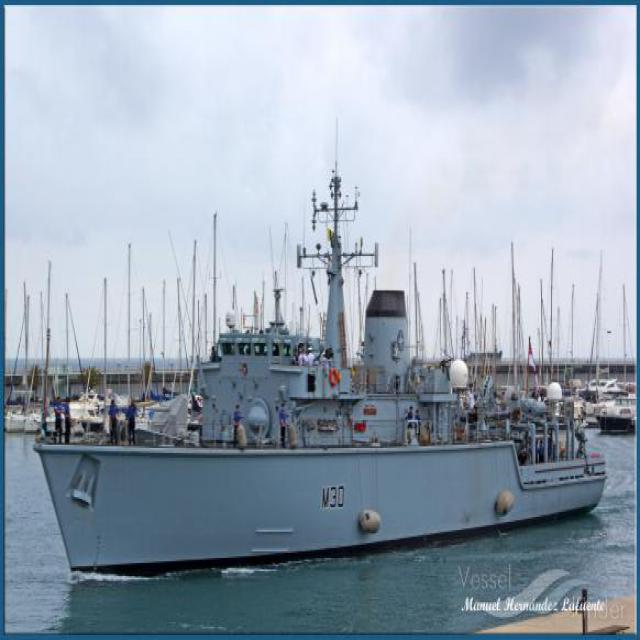OCR: (317, 478, 350, 513)
